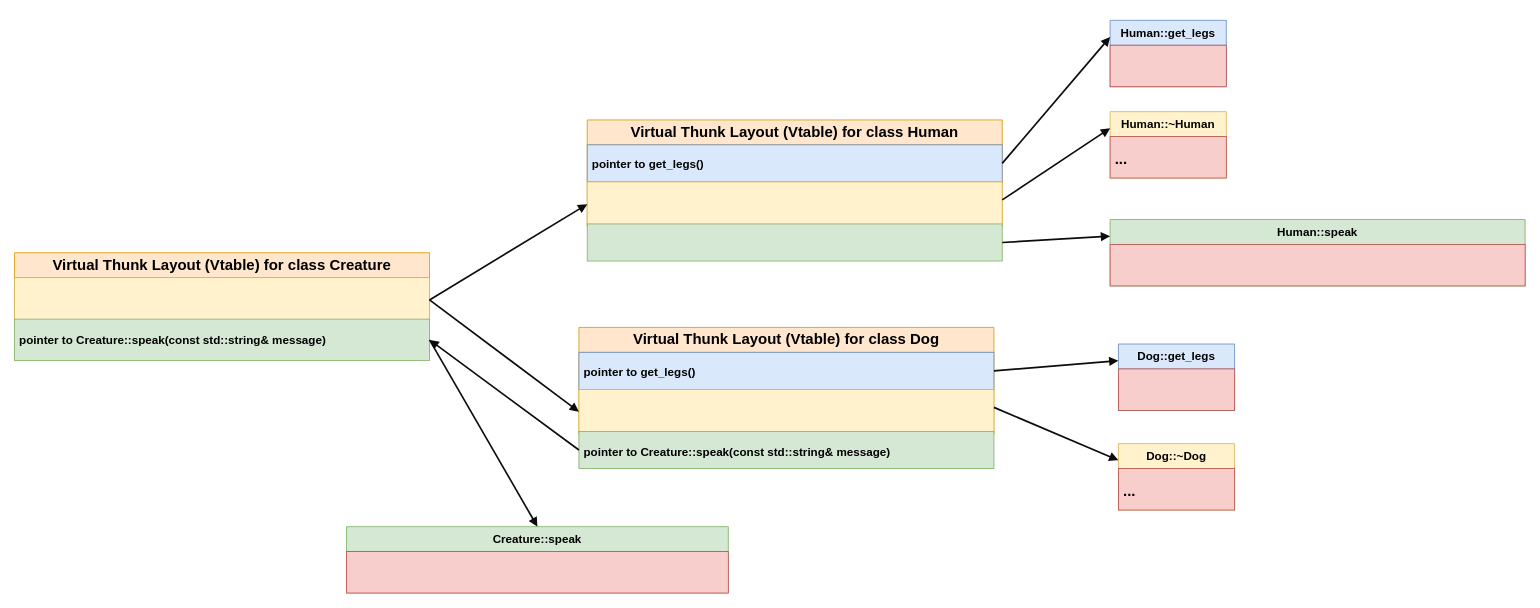
Image size: 1540x608. Some labels were removed from this diagram. Here are the shapes that lost their labels. From the top down, the centre of each, then its label:
(1167,65): { return 2; }
(794,204): pointer to Human::~Human()
(794,242): pointer to speak(const std::string& message)
(1317,265): std::cout << "Human says: " << message << std::endl;
(222,299): pointer to Creature::~Creature() pure virtual
(1176,389): { return 4; }
(786,411): pointer to Dog::~Dog()
(537,572): std::cout << "Creature cannot speak." << std::endl;
